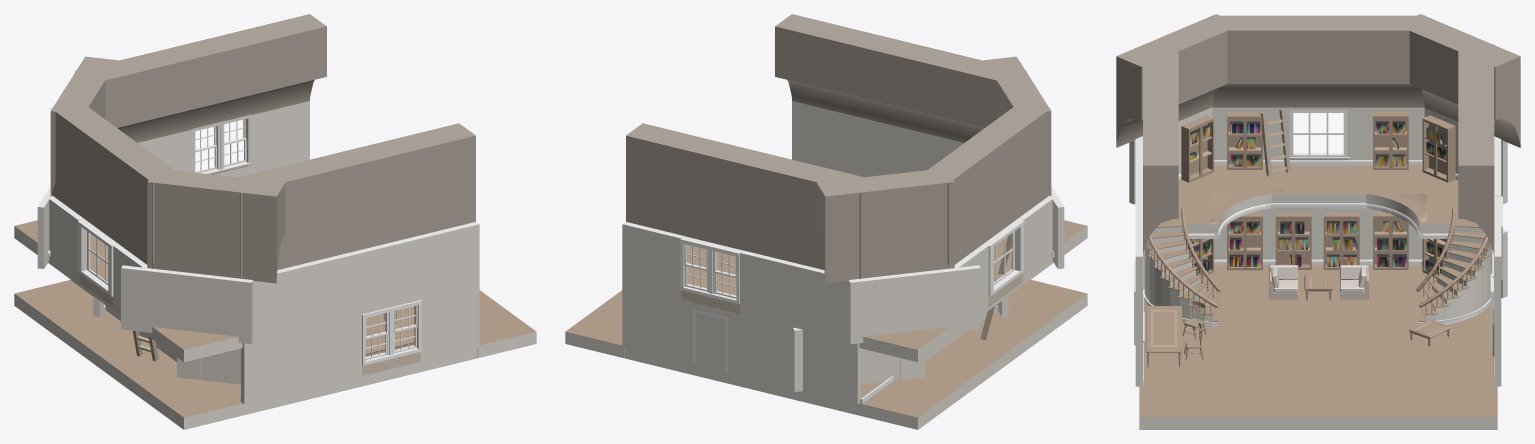
Rendered from library-base-merged-knobbed-withbooks.glb.
The picture shows the model from 3 angles, left to right: view 1: azimuth 30°, elevation 25°; view 2: azimuth 150°, elevation 25°; view 3: azimuth 270°, elevation 25°; orthographic projection. The views are drawn at different scales.
Parts seen in each view (by area): view 1: object1.018; view 2: object1.018; view 3: object1.018.
Boxes of the visible parts, x1,y1,x2,y2 form: object1.018: (14, 14, 536, 429); object1.018: (565, 14, 1087, 429); object1.018: (1116, 14, 1520, 429).
Bounding box in the file's own units: 12.68 × 7.2 × 11.28.
Materials: 51 (1 with a texture image).
